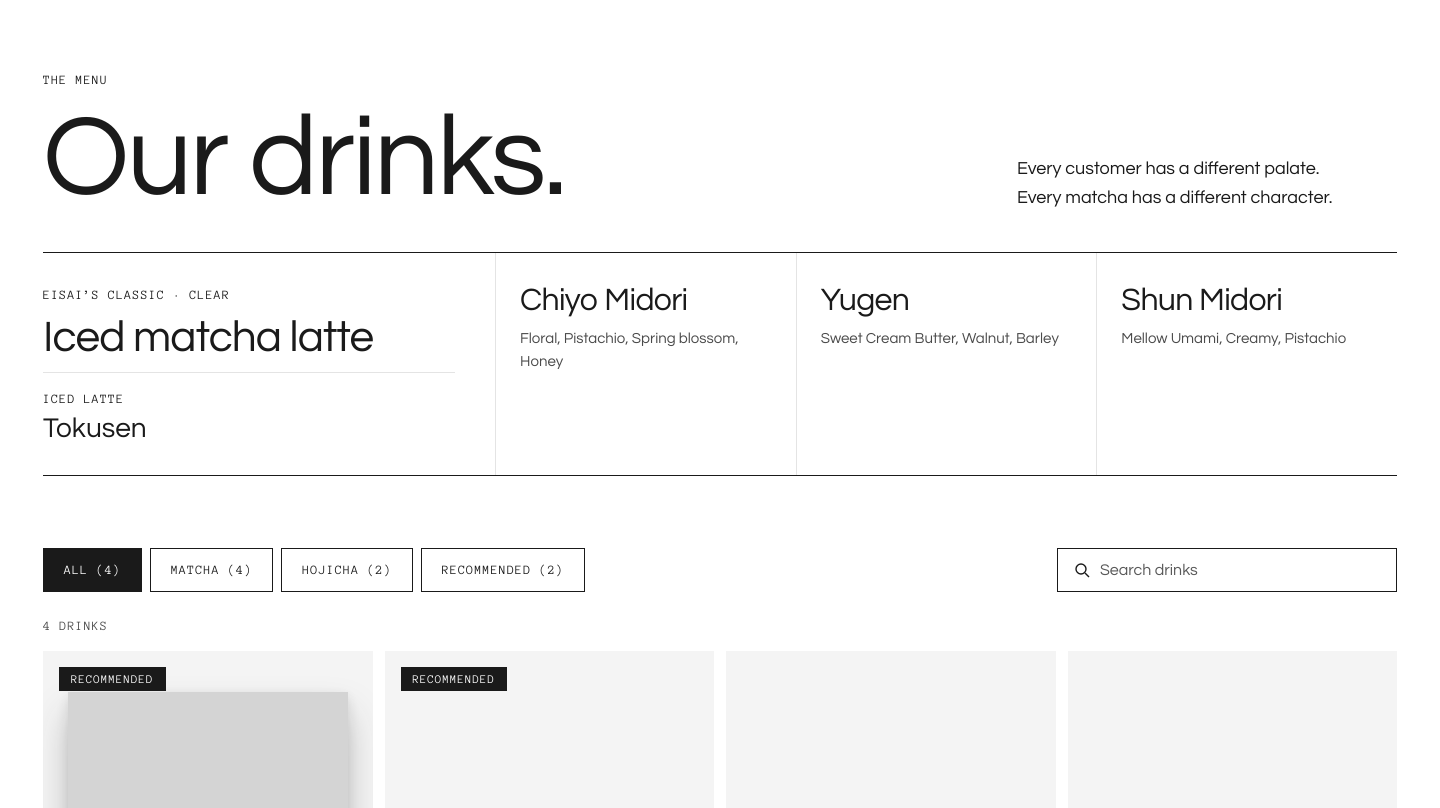
Test: no matches offers to clear the search
Expected: the text "4 drinks" is shown, [43, 618, 108, 632]
In the search field labelled "Search drinks": (1240, 570) [1100, 558, 1380, 582], type "strawberry espresso"
(page scrolled)
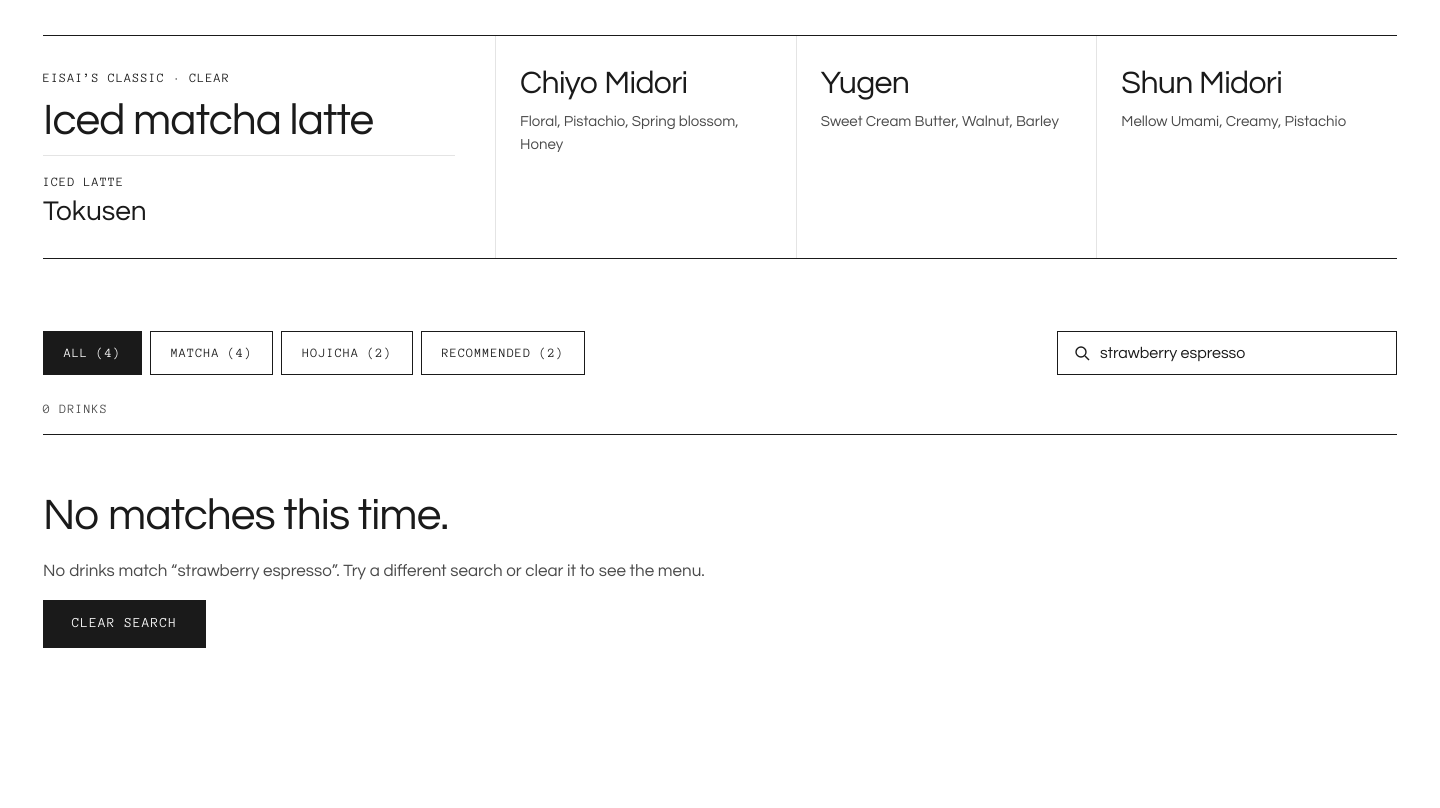
Expected: the heading "No matches this time." is shown, [43, 491, 448, 542]
Expected: the text "No drinks match “strawberry espresso”" is shown, [43, 558, 705, 584]
Expected: the text "0 drinks" is shown, [43, 402, 108, 414]
Click the button "Clear search": click(125, 624) [43, 600, 206, 648]
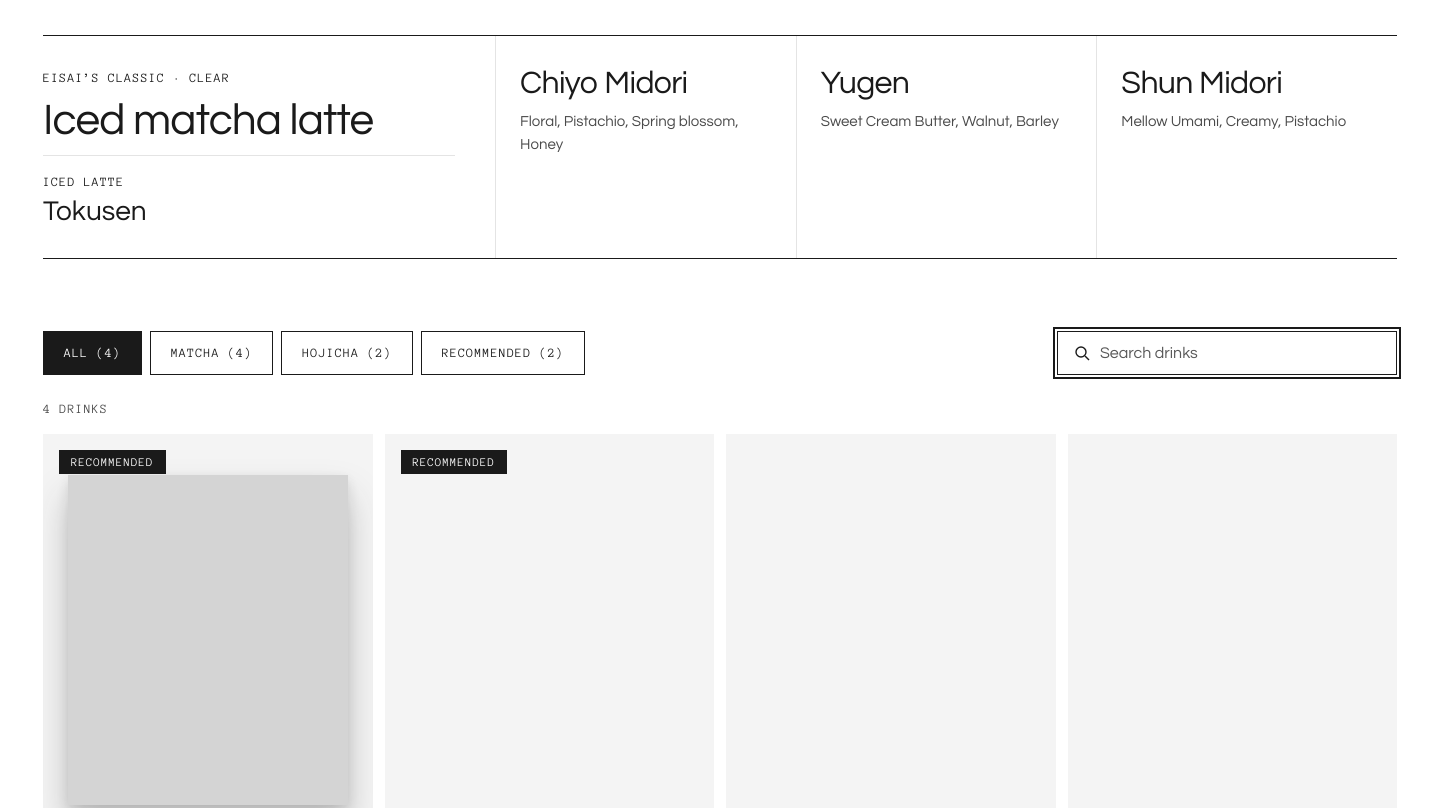
Expected: the search field labelled "Search drinks" is empty, [1100, 340, 1380, 364]
